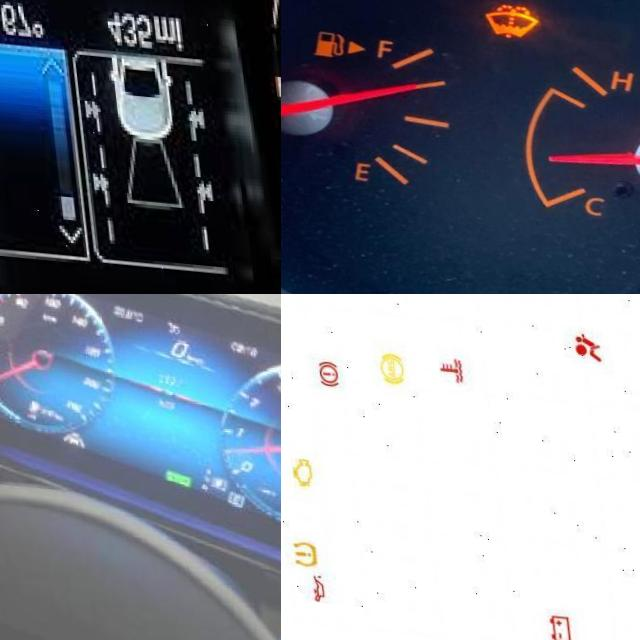Low fuel level: (24, 395, 39, 409)
